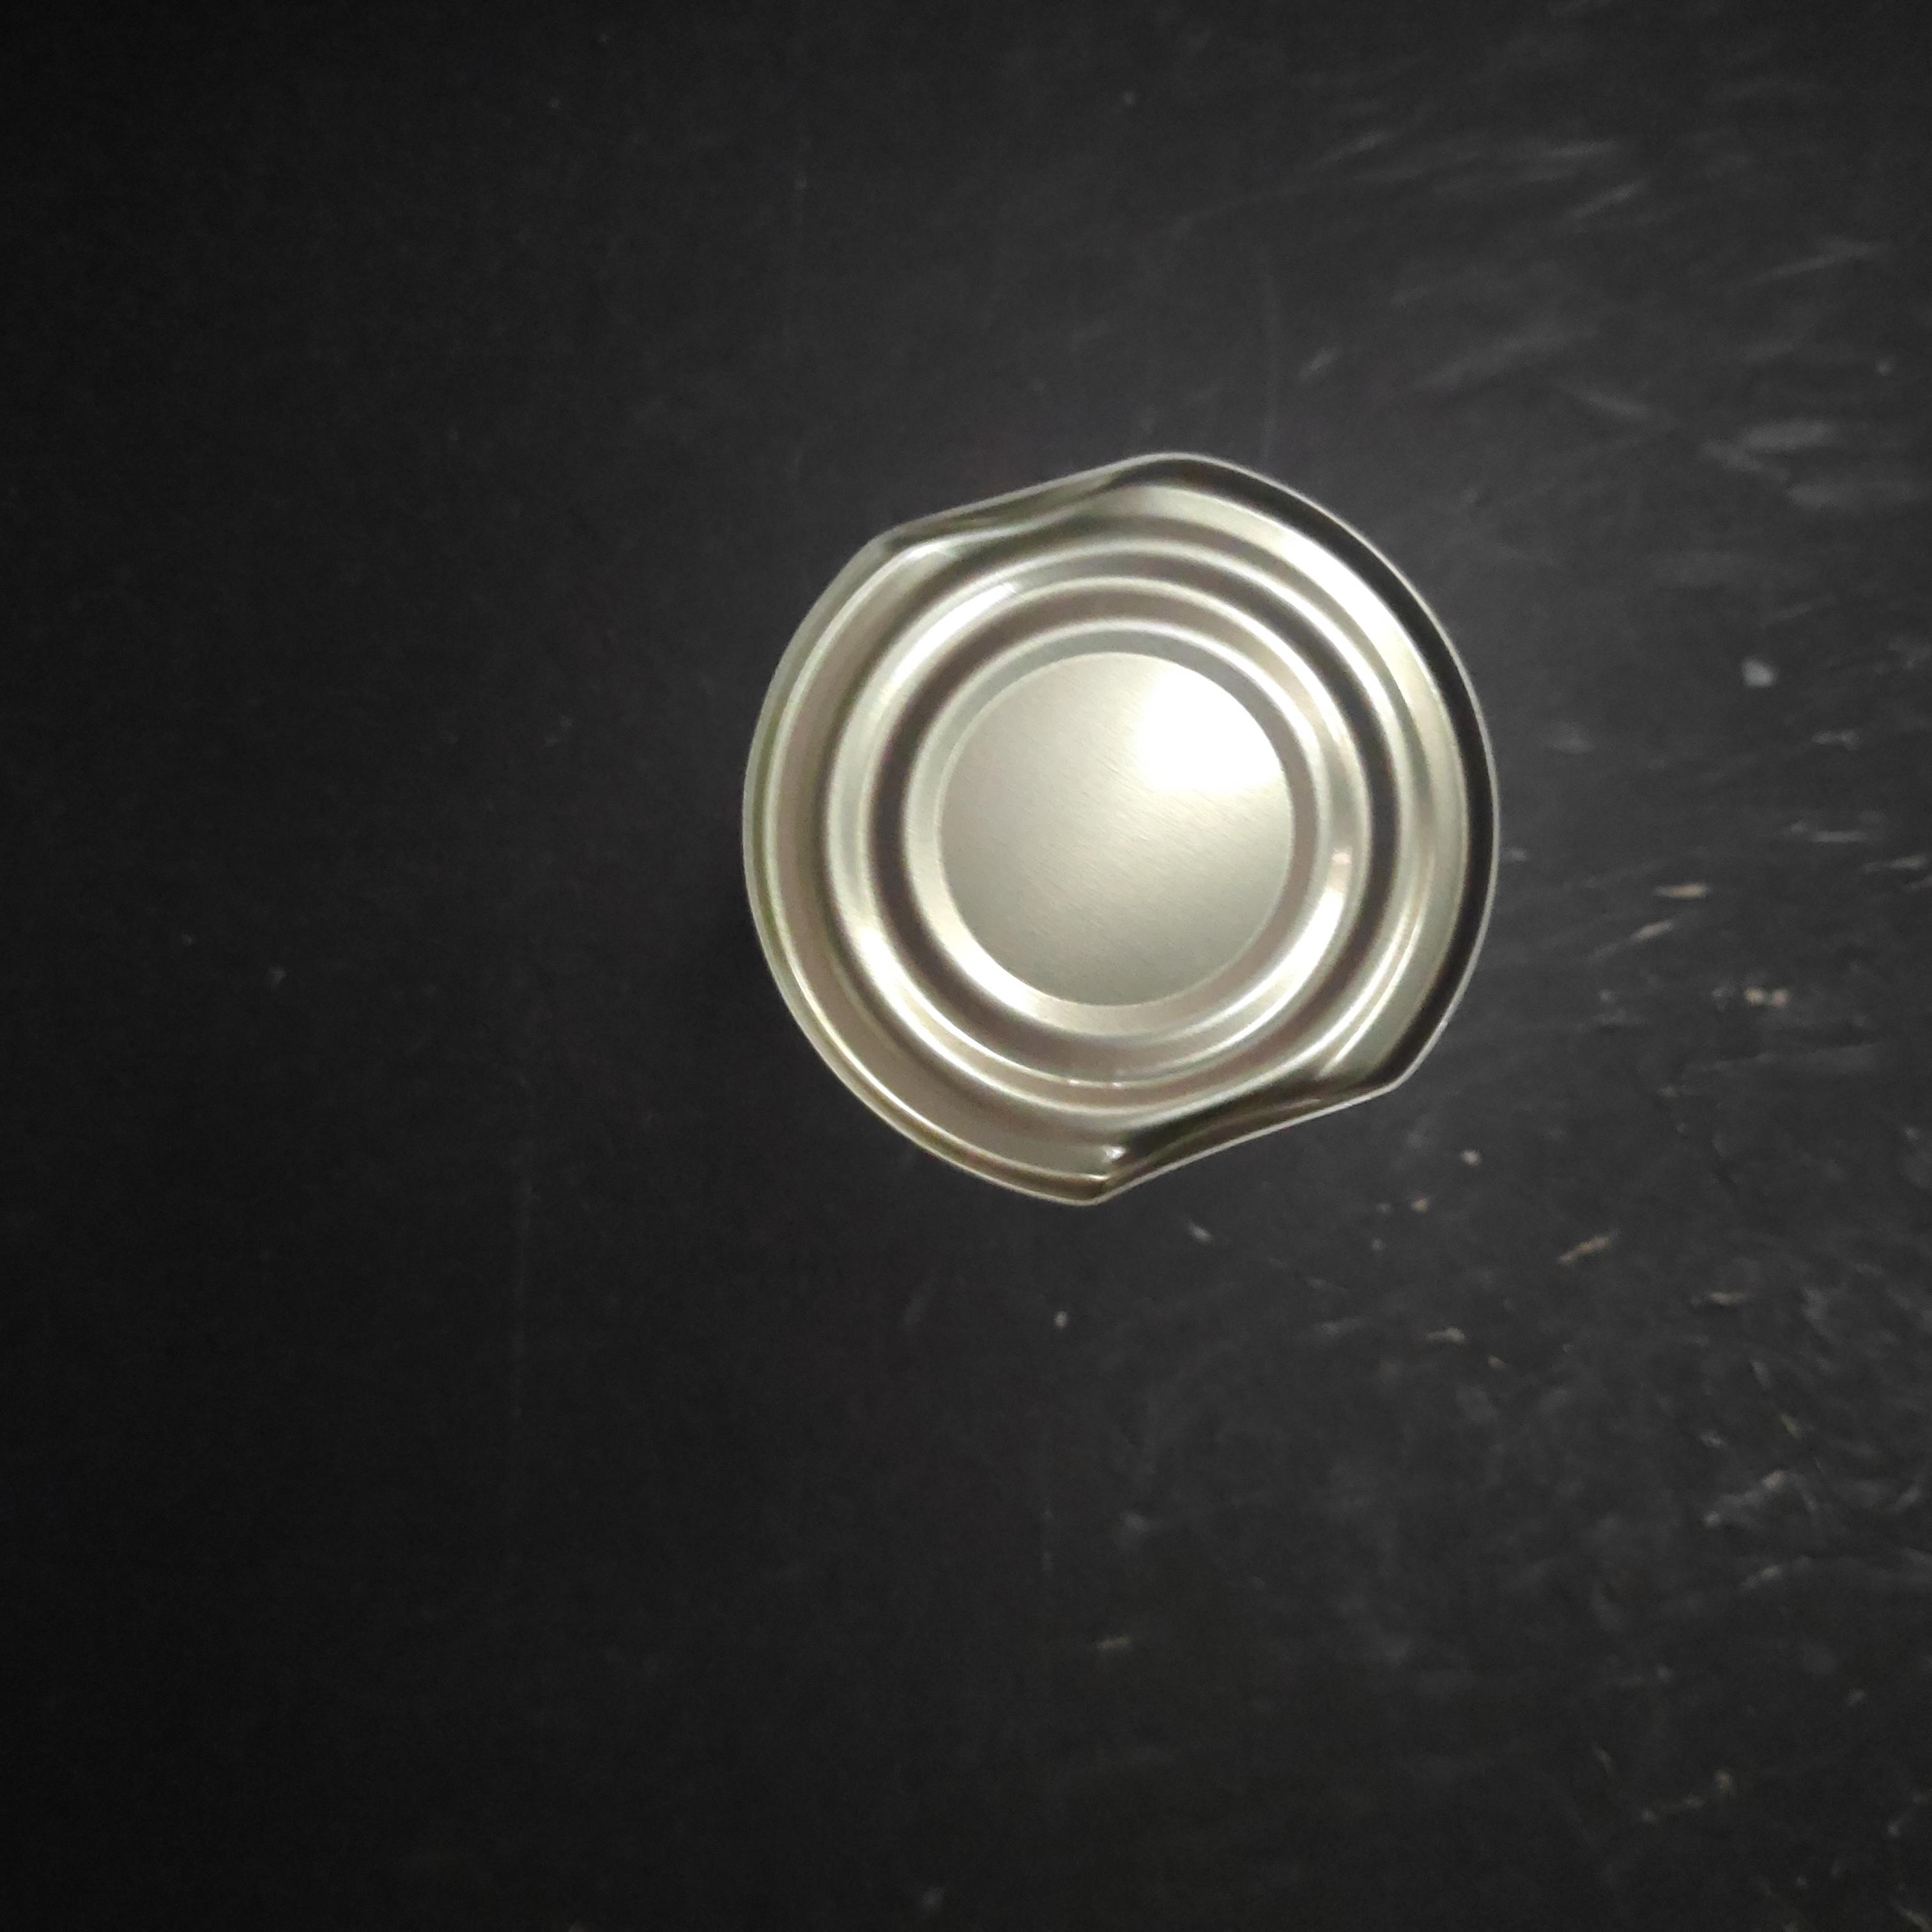Minor Defect: (727, 448, 1514, 1221)
